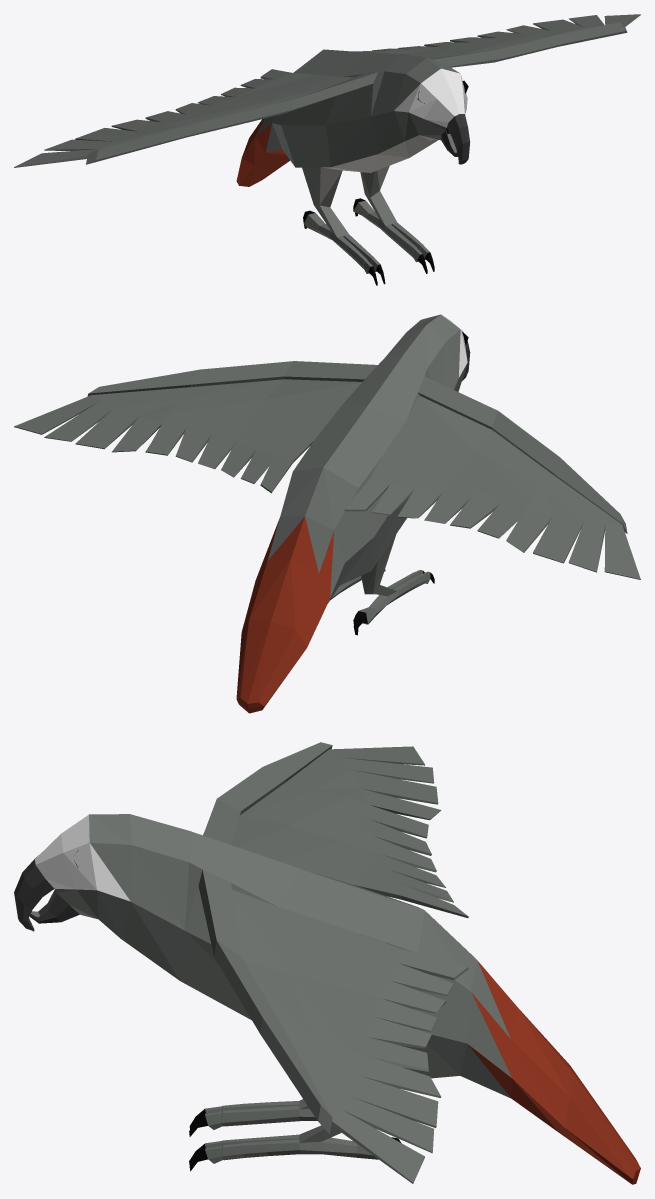
Rendered from bird.fbx.
3 views of the same model, one above another, from view 1: azimuth 30°, elevation 25°; view 2: azimuth 150°, elevation 25°; view 3: azimuth 270°, elevation 25° (orthographic). The views are drawn at different scales.
Visible parts, largest first — view 1: 24birdFinal; view 2: 24birdFinal; view 3: 24birdFinal.
Boxes of the visible parts, bbox=[...] form: 24birdFinal: bbox=[14, 14, 640, 285]; 24birdFinal: bbox=[14, 314, 640, 713]; 24birdFinal: bbox=[14, 742, 640, 1184].
Bounding box in the file's own units: 0.6063 × 0.2394 × 0.3679.
1 material, 1 textured.
